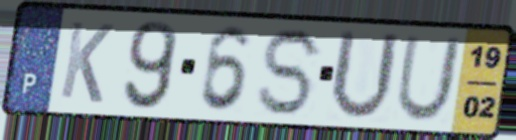6: (197, 23, 255, 116)
9: (122, 18, 180, 113)
K: (56, 18, 117, 107)
S: (255, 25, 328, 119)
U: (326, 26, 403, 124), (392, 34, 465, 125)
